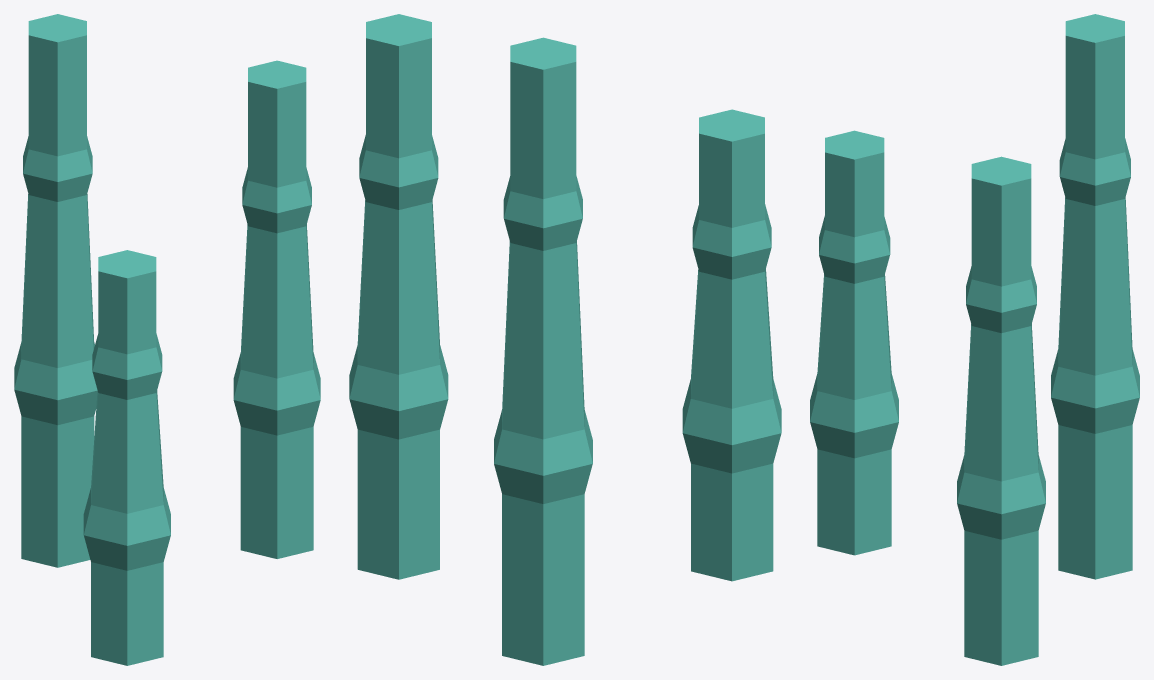
Rendered from crops_bambooStageA.glb.
3 renders of one model, left to right at view 1: azimuth 30°, elevation 25°; view 2: azimuth 150°, elevation 25°; view 3: azimuth 270°, elevation 25°, orthographic. The views are drawn at different scales.
Visible parts, largest first — view 1: crops_bambooStageA; view 2: crops_bambooStageA; view 3: crops_bambooStageA.
Part boxes in pixels (x1,y1,x2,y2): crops_bambooStageA: (14,14,320,665); crops_bambooStageA: (349,14,781,665); crops_bambooStageA: (810,14,1139,665).
Size of the model in its own units: 0.3401 by 0.549 by 0.308.
